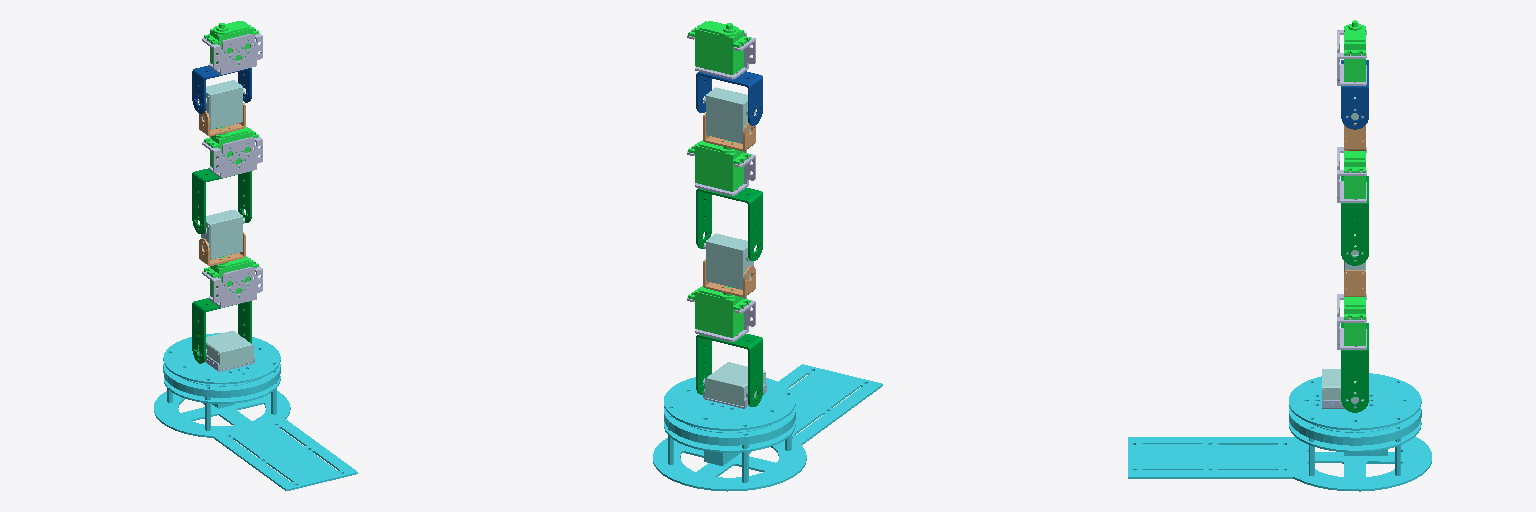
URDF robot description (bamboo_description):
<robot name="bamboo_description">

<link name="base_link">
    <visual>
      <origin xyz="-0.0857 0.0857 0" rpy="1.57 0 0" />
      <geometry>
        <mesh filename="package://bamboo_description/meshes/base.STL" />
      </geometry>
      <material name="">
        <color rgba="0.3 0.9 0.97 1" />
      </material>
    </visual>
    <collision>
      <origin xyz="-0.0857 0.0857 0" rpy="1.57 0 0" />
      <geometry>
        <mesh filename="package://bamboo_description/meshes/base.STL" />
      </geometry>
    </collision>
  </link>

<joint name="joint_1" type="revolute">
    <axis xyz="0 0 1" />
    <limit lower="-3.14" upper="3.14" effort="100" velocity="3" />
    <origin xyz="0 0 0.0589" rpy="0 0 0" />
    <parent link="base_link" />
    <child link="link_2" />

  </joint>

<link name="link_2">
    <visual>
      <origin xyz="0 -0.0099 0" rpy="1.57 0 0" />
      <geometry>
        <mesh filename="package://bamboo_description/meshes/side.STL" />
      </geometry>
      <material name="">
        <color rgba="0.7 0.8 0.9 0.9" />
      </material>
    </visual>
    <collision>
      <origin xyz="0 -0.0099 0" rpy="1.57 0 0" />
      <geometry>
        <mesh filename="package://bamboo_description/meshes/side.STL" />
      </geometry>
    </collision>
  </link>
<joint name="link2_servo3" type="fixed">
    <axis xyz="0 0 0"/>
    <origin rpy="0 0 0" xyz="0 0 0.0019"/>
    <parent link="link_2"/>
    <child link="servo_3"/>
  </joint>

<link name="servo_3">
    <visual>
      <origin xyz="-0.0262 0.0100 0" rpy="1.57 0 0" />
      <geometry>
        <mesh filename="package://bamboo_description/meshes/servo_dual_shaft.STL" />
      </geometry>
      <material name="">
        <color rgba="0.7 0.9 0.9 1" />
      </material>
    </visual>
    <collision>
      <origin xyz="-0.0262 0.0100 0" rpy="1.57 0 0" />
      <geometry>
        <mesh filename="package://bamboo_description/meshes/servo_dual_shaft.STL" />
      </geometry>
    </collision>
  </link>

<joint name="joint_2" type="revolute">
    <axis xyz="1 0 0" />
    <limit lower="-3.14" upper="3.14" effort="100" velocity="3" />
    <origin xyz="0 0 0.0099" rpy="0 0 0" />
    <parent link="servo_3" />
    <child link="link_4" />
  </joint>

<link name="link_4">
    <visual>
      <origin xyz="-0.0270 -0.0124 0.0502" rpy="3.14 0 0" />
      <geometry>
        <mesh filename="package://bamboo_description/meshes/long_U.STL" />
      </geometry>
      <material name="">
        <color rgba="0 0.7 0.3 0.5" />
      </material>
    </visual>
    <collision>
      <origin xyz="-0.0270 -0.0124 0.0502" rpy="3.14 0 0" />
      <geometry>
        <mesh filename="package://bamboo_description/meshes/long_U.STL" />
      </geometry>
    </collision>
  </link>
<joint name="link4_link5" type="fixed">
    <axis xyz="0 0 0"/>
    <origin rpy="0 0 0" xyz="0 0 0.0524"/>
    <parent link="link_4"/>
    <child link="link_5"/>
  </joint>
 
<link name="link_5">
    <visual>
      <origin xyz="0.0395 -0.01605 0.0375" rpy="3.14 0 3.14" />
      <geometry>
        <mesh filename="package://bamboo_description/meshes/servo_mount_x.STL" />
      </geometry>
      <material name="">
        <color rgba="0.79608 0.82353 0.93725 1" />
      </material>
    </visual>
    <collision>
      <origin xyz="0.0395 -0.01605 0.0375" rpy="3.14 0 3.14" />
      <geometry>
        <mesh filename="package://bamboo_description/meshes/servo_mount_x.STL" />
      </geometry>
    </collision>
  </link>
  
<joint name="link5_servo6" type="fixed">
    <axis xyz="0 0 0"/>
    <origin rpy="0 0 0" xyz="0 0 0.047"/>
    <parent link="link_5"/>
    <child link="servo_6"/>
  </joint>

<link name="servo_6">
    <visual>
      <origin xyz="0.0380 -0.0100 -0.0431" rpy="1.57 0 3.14" />
      <geometry>
        <mesh filename="package://bamboo_description/meshes/servo.STL" />
      </geometry>
      <material name="">
        <color rgba="0.2 1 0.4 0.5" />
      </material>
    </visual>
    <collision>
      <origin xyz="0.0380 -0.0100 -0.0431" rpy="1.57 0 3.14" />
      <geometry>
        <mesh filename="package://bamboo_description/meshes/servo.STL" />
      </geometry>
    </collision>
  </link>


<joint name="joint_3" type="revolute">
    <axis xyz="0 0 1" />
    <limit lower="-3.14" upper="3.14" effort="100" velocity="3" />
    <origin xyz="0 0 0" rpy="0 0 0" />
    <parent link="servo_6" />
    <child link="link_7" />
  </joint>

<link name="link_7">
    <visual>
      <origin xyz="0 0 0" rpy="1.57 0 0" />
      <geometry>
        <mesh filename="package://bamboo_description/meshes/narrow_U.STL" />
      </geometry>
      <material name="">
        <color rgba="0.9 0.7 0.5 0.7" />
      </material>
    </visual>
    <collision>
      <origin xyz="0 0 0" rpy="1.57 0 0" />
      <geometry>
        <mesh filename="package://bamboo_description/meshes/narrow_U.STL" />
      </geometry>
    </collision>
 </link>

<joint name="link7_servo_8" type="fixed">
    <axis xyz="0 0 0"/>
    <origin rpy="0 0 0" xyz="0 0 0.0368"/>
    <parent link="link_7"/>
    <child link="servo_8"/>
 </joint>

<link name="servo_8">
    <visual>
      <origin xyz="-0.0262 0.0100 0.0103" rpy="3.14 0 0" />
      <geometry>
        <mesh filename="package://bamboo_description/meshes/servo_dual_shaft.STL" />
      </geometry>
      <material name="">
        <color rgba="0.7 0.9 0.9 1" />
      </material>
    </visual>
    <collision>
      <origin xyz="-0.0262 0.0100 0.0103" rpy="3.14 0 0" />
      <geometry>
        <mesh filename="package://bamboo_description/meshes/servo_dual_shaft.STL" />
      </geometry>
    </collision>
 </link>




<joint name="joint_4" type="revolute">
    <axis xyz="1 0 0" />
    <limit lower="-3.14" upper="3.14" effort="100" velocity="3" />
    <origin xyz="0 0 0.0099" rpy="0 0 0" />
    <parent link="servo_8" />
    <child link="link_9" />
  </joint>

<link name="link_9">
    <visual>
      <origin xyz="-0.0270 -0.0124 0.0502" rpy="3.14 0 0" />
      <geometry>
        <mesh filename="package://bamboo_description/meshes/long_U.STL" />
      </geometry>
      <material name="">
        <color rgba="0 0.7 0.3 0.5" />
      </material>
    </visual>
    <collision>
      <origin xyz="-0.0270 -0.0124 0.0502" rpy="3.14 0 0" />
      <geometry>
        <mesh filename="package://bamboo_description/meshes/long_U.STL" />
      </geometry>
    </collision>
  </link>

<joint name="link9_link10" type="fixed">
    <axis xyz="0 0 0"/>
    <origin rpy="0 0 0" xyz="0 0 0.0524"/>
    <parent link="link_9"/>
    <child link="link_10"/>
  </joint>
 
<link name="link_10">
    <visual>
      <origin xyz="0.0395 -0.01605 0.0375" rpy="3.14 0 3.14" />
      <geometry>
        <mesh filename="package://bamboo_description/meshes/servo_mount_x.STL" />
      </geometry>
      <material name="">
        <color rgba="0.79608 0.82353 0.93725 1" />
      </material>
    </visual>
    <collision>
      <origin xyz="0.0395 -0.01605 0.0375" rpy="3.14 0 3.14" />
      <geometry>
        <mesh filename="package://bamboo_description/meshes/servo_mount_x.STL" />
      </geometry>
    </collision>
  </link>
  
<joint name="link10_servo11" type="fixed">
    <axis xyz="0 0 0"/>
    <origin rpy="0 0 0" xyz="0 0 0.047"/>
    <parent link="link_10"/>
    <child link="servo_11"/>
  </joint>

<link name="servo_11">
    <visual>
      <origin xyz="0.0380 -0.0100 -0.0431" rpy="1.57 0 3.14" />
      <geometry>
        <mesh filename="package://bamboo_description/meshes/servo.STL" />
      </geometry>
      <material name="">
        <color rgba="0.2 1 0.4 0.5" />
      </material>
    </visual>
    <collision>
      <origin xyz="0.0380 -0.0100 -0.0431" rpy="1.57 0 3.14" />
      <geometry>
        <mesh filename="package://bamboo_description/meshes/servo.STL" />
      </geometry>
    </collision>
  </link>


<joint name="joint_5" type="revolute">
    <axis xyz="0 0 1" />
    <limit lower="-3.14" upper="3.14" effort="100" velocity="3" />
    <origin xyz="0 0 0" rpy="0 0 0" />
    <parent link="servo_11" />
    <child link="link_12" />
  </joint>

<link name="link_12">
    <visual>
      <origin xyz="0 0 0" rpy="1.57 0 0" />
      <geometry>
        <mesh filename="package://bamboo_description/meshes/narrow_U.STL" />
      </geometry>
      <material name="">
        <color rgba="0.9 0.7 0.5 0.7" />
      </material>
    </visual>
    <collision>
      <origin xyz="0 0 0" rpy="1.57 0 0" />
      <geometry>
        <mesh filename="package://bamboo_description/meshes/narrow_U.STL" />
      </geometry>
    </collision>
 </link>

<joint name="link12_servo_13" type="fixed">
    <axis xyz="0 0 0"/>
    <origin rpy="0 0 0" xyz="0 0 0.0368"/>
    <parent link="link_12"/>
    <child link="servo_13"/>
 </joint>

<link name="servo_13">
    <visual>
      <origin xyz="-0.0262 0.0100 0.0103" rpy="3.14 0 0" />
      <geometry>
        <mesh filename="package://bamboo_description/meshes/servo_dual_shaft.STL" />
      </geometry>
      <material name="">
        <color rgba="0.7 0.9 0.9 1" />
      </material>
    </visual>
    <collision>
      <origin xyz="-0.0262 0.0100 0.0103" rpy="3.14 0 0" />
      <geometry>
        <mesh filename="package://bamboo_description/meshes/servo_dual_shaft.STL" />
      </geometry>
    </collision>
 </link>



<joint name="joint_6" type="revolute">
    <axis xyz="1 0 0" />
    <limit lower="-3.14" upper="3.14" effort="100" velocity="3" />
    <origin xyz="0 0 -0.0006" rpy="0 0 0" />
    <parent link="servo_13" />
    <child link="link_14" />
  </joint>

<link name="link_14">
    <visual>
      <origin xyz="-0.0269 -0.0124 0.0307" rpy="3.14 0 0" />
      <geometry>
        <mesh filename="package://bamboo_description/meshes/short_U.STL" />
      </geometry>
      <material name="">
        <color rgba="0.1 0.4 0.7 0.5" />
      </material>
    </visual>
    <collision>
      <origin xyz="-0.0269 -0.0124 0.0307" rpy="3.14 0 0" />
      <geometry>
        <mesh filename="package://bamboo_description/meshes/short_U.STL" />
      </geometry>
    </collision>
  </link>
  <joint name="link14_link15" type="fixed">
    <axis xyz="0 0 0"/>
    <origin rpy="0 0 0" xyz="0 0 0.0335"/>
    <parent link="link_14"/>
    <child link="link_15"/>
  </joint>
 
<link name="link_15">
    <visual>
      <origin xyz="0.0395 -0.01605 0.0375" rpy="3.14 0 3.14" />
      <geometry>
        <mesh filename="package://bamboo_description/meshes/servo_mount_x.STL" />
      </geometry>
      <material name="">
        <color rgba="0.79608 0.82353 0.93725 1" />
      </material>
    </visual>
    <collision>
      <origin xyz="0.0395 -0.01605 0.0375" rpy="3.14 0 3.14" />
      <geometry>
        <mesh filename="package://bamboo_description/meshes/servo_mount_x.STL" />
      </geometry>
    </collision>
  </link>
  
<joint name="link15_servo16" type="fixed">
    <axis xyz="0 0 0"/>
    <origin rpy="0 0 0" xyz="0 0 0.047"/>
    <parent link="link_15"/>
    <child link="servo_16"/>
  </joint>

<link name="servo_16">
    <visual>
      <origin xyz="0.0380 -0.0100 -0.0431" rpy="1.57 0 3.14" />
      <geometry>
        <mesh filename="package://bamboo_description/meshes/servo.STL" />
      </geometry>
      <material name="">
        <color rgba="0.2 1 0.4 0.5" />
      </material>
    </visual>
    <collision>
      <origin xyz="0.0380 -0.0100 -0.0431" rpy="1.57 0 3.14" />
      <geometry>
        <mesh filename="package://bamboo_description/meshes/servo.STL" />
      </geometry>
    </collision>
  </link>

<!--
<joint name="servo6_link7" type="revolute">
    <axis xyz="0 0 1" />
    <limit lower="-3.14" upper="3.14" effort="100" velocity="3" />
    <origin xyz="0 0 0" rpy="0 0 0" />
    <parent link="servo_6" />
    <child link="link_7" />
  </joint>

 <link name="link_7">
    <visual>
      <origin xyz="-0.0124 -0.0269 0.0018" rpy="0 0 1.57" />
      <geometry>
        <mesh filename="package://bamboo_description/meshes/short_U.STL" />
      </geometry>
      <material name="">
        <color rgba="0.1 0.4 0.7 0.5" />
      </material>
    </visual>
    <collision>
      <origin xyz="-0.0124 -0.0269 0.0018" rpy="0 0 1.57" />
      <geometry>
        <mesh filename="package://bamboo_description/meshes/short_U.STL" />
      </geometry>
    </collision>
  </link>

<joint name="link7_servo8" type="revolute">
    <axis xyz="0 1 0" />
    <limit lower="-3.14" upper="3.14" effort="100" velocity="3" />
    <origin xyz="0 0 0.03186" rpy="0 0 0" />
    <parent link="link_7" />
    <child link="servo_8" />
  </joint>

<link name="servo_8">
    <visual>
      <origin xyz="0.0099 -0.0257 -0.0101" rpy="0 0 1.57" />
      <geometry>
        <mesh filename="package://bamboo_description/meshes/servo_dual_shaft.STL" />
      </geometry>
      <material name="">
        <color rgba="0.7 0.9 0.9 1" />
      </material>
    </visual>
    <collision>
      <origin xyz="0.0099 -0.0257 -0.0101" rpy="0 0 1.57" />
      <geometry>
        <mesh filename="package://bamboo_description/meshes/servo_dual_shaft.STL" />
      </geometry>
    </collision>
  </link>

<joint name="servo8_link9" type="fixed">
    <axis xyz="0 0 0"/>
    <origin rpy="0 0 0" xyz="0 0 0.0322"/>
    <parent link="servo_8"/>
    <child link="link_9"/>
  </joint>

<link name="link_9">
    <visual>
      <origin xyz="0 0 0" rpy="-1.57 0 1.57" />
      <geometry>
        <mesh filename="package://bamboo_description/meshes/narrow_U.STL" />
      </geometry>
      <material name="">
        <color rgba="0.9 0.7 0.5 0.7" />
      </material>
    </visual>
    <collision>
      <origin xyz="0 0 0" rpy="-1.57 0 1.57" />
      <geometry>
        <mesh filename="package://bamboo_description/meshes/narrow_U.STL" />
      </geometry>
    </collision>
  </link>

    <joint name="link9_link10" type="fixed">
    <axis xyz="0 0 0"/>
    <origin rpy="0 0 0" xyz="0 0 0.0"/>
    <parent link="link_9"/>
    <child link="link_10"/>
  </joint>

  <link name="link_10">
    <visual>
      <origin xyz="0.01605 0.0395 0.0375" rpy="3.14 0 -1.57" />
      <geometry>
        <mesh filename="package://bamboo_description/meshes/servo_mount_x.STL" />
      </geometry>
      <material name="">
        <color rgba="0.79608 0.82353 0.93725 1" />
      </material>
    </visual>
    <collision>
      <origin xyz="0.01605 0.0395 0.0375" rpy="3.14 0 -1.57" />
      <geometry>
        <mesh filename="package://bamboo_description/meshes/servo_mount_x.STL" />
      </geometry>
    </collision>
  </link>
  
  <joint name="link10_servo11" type="fixed">
    <axis xyz="0 0 0"/>
    <origin rpy="0 0 0" xyz="0 0 0.047"/>
    <parent link="link_10"/>
    <child link="servo_11"/>
  </joint>

  <link name="servo_11">
    <visual>
      <origin xyz="0.0100 0.0380 -0.0431" rpy="1.57 0 -1.57" />
      <geometry>
        <mesh filename="package://bamboo_description/meshes/servo.STL" />
      </geometry>
      <material name="">
        <color rgba="0.2 1 0.4 0.5" />
      </material>
    </visual>
    <collision>
      <origin xyz="0.0100 0.0380 -0.0431" rpy="1.57 0 -1.57" />
      <geometry>
        <mesh filename="package://bamboo_description/meshes/servo.STL" />
      </geometry>
    </collision>
  </link>

<joint name="servo11_link12" type="revolute">
    <axis xyz="0 0 1" />
    <limit lower="-3.14" upper="3.14" effort="100" velocity="3" />
    <origin xyz="0 0 0" rpy="0 0 0" />
    <parent link="servo_11" />
    <child link="link_12" />
  </joint>

 <link name="link_12">
    <visual>
      <origin xyz="-0.0124 -0.0269 0.0018" rpy="0 0 1.57" />
      <geometry>
        <mesh filename="package://bamboo_description/meshes/short_U.STL" />
      </geometry>
      <material name="">
        <color rgba="0.1 0.4 0.7 0.5" />
      </material>
    </visual>
    <collision>
      <origin xyz="-0.0124 -0.0269 0.0018" rpy="0 0 1.57" />
      <geometry>
        <mesh filename="package://bamboo_description/meshes/short_U.STL" />
      </geometry>
    </collision>
  </link>

  
<joint name="link12_servo13" type="revolute">
    <axis xyz="0 1 0" />
    <limit lower="-3.14" upper="3.14" effort="100" velocity="3" />
    <origin xyz="0 0 0.03186" rpy="0 0 0" />
    <parent link="link_12" />
    <child link="servo_13" />
  </joint>

<link name="servo_13">
    <visual>
      <origin xyz="0.0099 -0.0257 -0.0101" rpy="0 0 1.57" />
      <geometry>
        <mesh filename="package://bamboo_description/meshes/servo_dual_shaft.STL" />
      </geometry>
      <material name="">
        <color rgba="0.7 0.9 0.9 1" />
      </material>
    </visual>
    <collision>
      <origin xyz="0.0099 -0.0257 -0.0101" rpy="0 0 1.57" />
      <geometry>
        <mesh filename="package://bamboo_description/meshes/servo_dual_shaft.STL" />
      </geometry>
    </collision>
  </link>

<joint name="servo13_link14" type="fixed">
    <axis xyz="0 0 0"/>
    <origin rpy="0 0 0" xyz="0 0 0.0322"/>
    <parent link="servo_13"/>
    <child link="link_14"/>
  </joint>

<link name="link_14">
    <visual>
      <origin xyz="0 0 0" rpy="-1.57 0 1.57" />
      <geometry>
        <mesh filename="package://bamboo_description/meshes/narrow_U.STL" />
      </geometry>
      <material name="">
        <color rgba="0.9 0.7 0.5 0.7" />
      </material>
    </visual>
    <collision>
      <origin xyz="0 0 0" rpy="-1.57 0 1.57" />
      <geometry>
        <mesh filename="package://bamboo_description/meshes/narrow_U.STL" />
      </geometry>
    </collision>
  </link>

    <joint name="link14_link15" type="fixed">
    <axis xyz="0 0 0"/>
    <origin rpy="0 0 0" xyz="0 0 0.0"/>
    <parent link="link_14"/>
    <child link="link_15"/>
  </joint>

  <link name="link_15">
    <visual>
      <origin xyz="0.01605 0.0395 0.0375" rpy="3.14 0 -1.57" />
      <geometry>
        <mesh filename="package://bamboo_description/meshes/servo_mount_x.STL" />
      </geometry>
      <material name="">
        <color rgba="0.79608 0.82353 0.93725 1" />
      </material>
    </visual>
    <collision>
      <origin xyz="0.01605 0.0395 0.0375" rpy="3.14 0 -1.57" />
      <geometry>
        <mesh filename="package://bamboo_description/meshes/servo_mount_x.STL" />
      </geometry>
    </collision>
  </link>
  
  <joint name="link15_servo16" type="fixed">
    <axis xyz="0 0 0"/>
    <origin rpy="0 0 0" xyz="0 0 0.047"/>
    <parent link="link_15"/>
    <child link="servo_16"/>
  </joint>

  <link name="servo_16">
    <visual>
      <origin xyz="0.0100 0.0380 -0.0431" rpy="1.57 0 -1.57" />
      <geometry>
        <mesh filename="package://bamboo_description/meshes/servo.STL" />
      </geometry>
      <material name="">
        <color rgba="0.2 1 0.4 0.5" />
      </material>
    </visual>
    <collision>
      <origin xyz="0.0100 0.0380 -0.0431" rpy="1.57 0 -1.57" />
      <geometry>
        <mesh filename="package://bamboo_description/meshes/servo.STL" />
      </geometry>
    </collision>
  </link>
  <joint name="servo16_link17" type="revolute">
    <axis xyz="0 0 1" />
    <limit lower="-3.14" upper="3.14" effort="100" velocity="3" />
    <origin xyz="0 0 0" rpy="0 0 0" />
    <parent link="servo_16" />
    <child link="link_17" />
  </joint>

  <link name="link_17">
    <visual>
      <origin xyz="0.0124 0.0270 0" rpy="3.14 3.14 1.57" />
      <geometry>
        <mesh filename="package://bamboo_description/meshes/long_U.STL" />
      </geometry>
      <material name="">
        <color rgba="0.9 0.1 0.2 0.7" />
      </material>
    </visual>
    <collision>
      <origin xyz="0.0124 0.0270 0" rpy="3.14 3.14 1.57" />
      <geometry>
        <mesh filename="package://bamboo_description/meshes/long_U.STL" />
      </geometry>
    </collision>
  </link>



-->
<!--
<link name="base_link">
    <visual>
      <origin xyz="0 0 0" rpy="0 0 0" />
      <geometry>
        <mesh filename="package://bamboo_description/meshes/wide_U.STL" />
      </geometry>
      <material name="">
        <color rgba="0 0.7 0.3 0.5" />
      </material>
    </visual>
    <collision>
      <origin xyz="0 0 0" rpy="-1.57 0 0" />
      <geometry>
        <mesh filename="package://bamboo_description/meshes/wide_U.STL" />
      </geometry>
    </collision>
  </link>
-->
<!--link
<link name="base_link">
    <visual>
      <origin xyz="0 0 0" rpy="0 0 0" />
      <geometry>
        <mesh filename="package://bamboo_description/meshes/base.STL" />
      </geometry>
      <material name="">
        <color rgba="0 0.7 0.3 0.5" />
      </material>
    </visual>
    <collision>
      <origin xyz="0 0 0" rpy="-1.57 0 0" />
      <geometry>
        <mesh filename="package://bamboo_description/meshes/base.STL" />
      </geometry>
    </collision>
  </link>
-->
<!--joint
<joint name="servo6_link7" type="revolute">
    <axis xyz="0 0 1" />
    <limit lower="-3.14" upper="3.14" effort="100" velocity="3" />
    <origin xyz="0 0 0" rpy="0 0 0" />
    <parent link="servo_6" />
    <child link="link_7" />
  </joint>
-->
<!--
<link name="servo_3">
    <visual>
      <origin xyz="0.0099 -0.0257 0.0101" rpy="0 0 1.57" />
      <geometry>
        <mesh filename="package://bamboo_description/meshes/servo_dual_shaft.STL" />
      </geometry>
      <material name="">
        <color rgba="0.7 0.9 0.9 1" />
      </material>
    </visual>
    <collision>
      <origin xyz="0 0 0" rpy="-1.57 0 0" />
      <geometry>
        <mesh filename="package://bamboo_description/meshes/servo_dual_shaft.STL" />
      </geometry>
    </collision>
  </link>
-->

</robot>

--- Render facts (derived) ---
3 views of the same robot in one strip: view 1: azimuth 30°, elevation 25°; view 2: azimuth 150°, elevation 25°; view 3: azimuth 270°, elevation 25° (orthographic).
Robot: bamboo_description — 16 links, 15 joints (6 revolute, 9 fixed); root link base_link; default pose: all joints at 0.
Visible links, largest first — view 1: base_link, servo_8, link_9, servo_13, link_5, link_15, link_10, link_4, servo_3, link_14, servo_16, servo_11 (+1 smaller); view 2: base_link, servo_16, servo_6, servo_11, link_9, servo_8, link_4, servo_13, servo_3, link_14, link_7, link_12 (+3 smaller); view 3: base_link, link_9, link_4, servo_16, link_14, servo_6, servo_11, servo_3, link_7.
Boxes of the visible links, x1,y1,x2,y2 form: base_link: (154,333,357,490); servo_8: (201,210,244,259); link_9: (192,168,251,233); servo_13: (198,80,244,129); link_5: (202,266,262,307); link_15: (202,33,262,74); link_10: (202,137,262,177); link_4: (192,298,251,363); servo_3: (198,331,253,369); link_14: (192,65,251,113); servo_16: (204,21,258,64); servo_11: (204,127,258,167); base_link: (653,364,882,491); servo_16: (688,21,750,74); servo_6: (688,286,750,337); servo_11: (688,140,750,191); link_9: (696,187,762,260); servo_8: (703,233,753,289); link_4: (696,334,762,406); servo_13: (703,87,755,143); servo_3: (703,362,765,405); link_14: (696,71,762,125); link_7: (703,259,755,297); link_12: (703,113,755,151); base_link: (1128,373,1431,491); link_9: (1341,176,1368,265); link_4: (1341,323,1368,412); servo_16: (1344,20,1365,81); link_14: (1341,60,1368,129); servo_6: (1344,297,1365,345); servo_11: (1344,151,1365,198); servo_3: (1322,369,1363,403); link_7: (1344,270,1365,296).
Size in the robot's own frame: 0.1396 by 0.2747 by 0.4348 metres.
Meshes: 8 distinct files referenced, 16 mesh visuals loaded (8 binary STL).